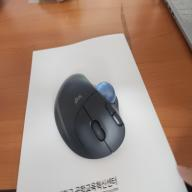mouse: (54, 72, 126, 160)
